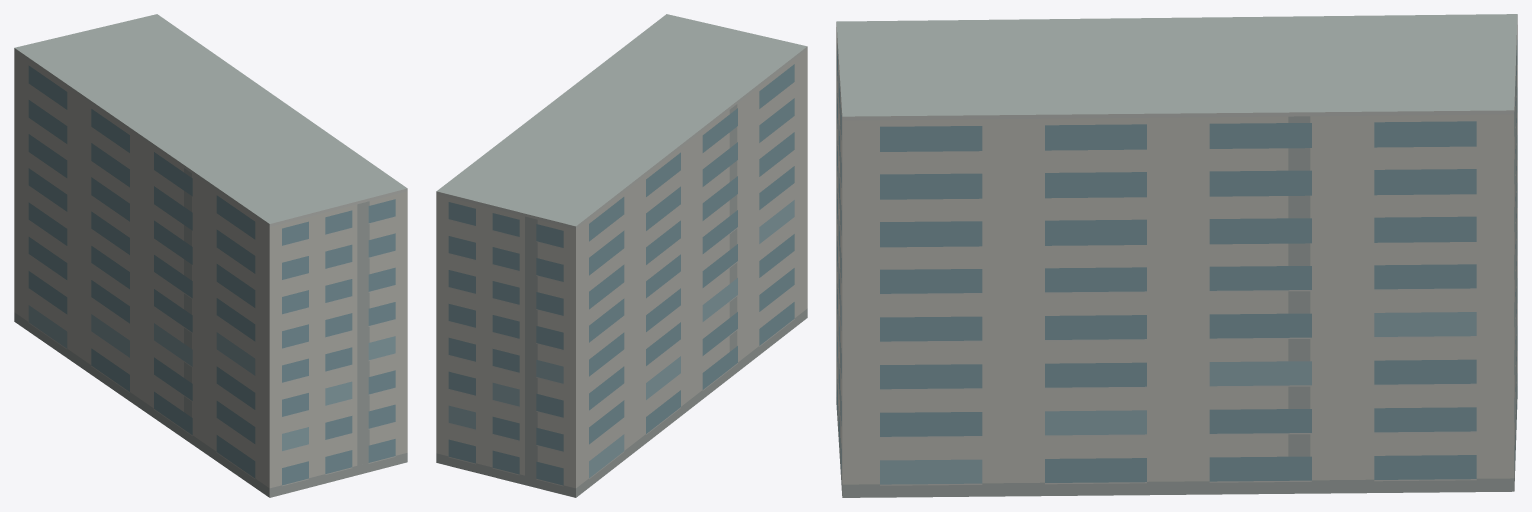
The model's file is survey-upis-32641032.glb.
3 renders of one model, left to right at view 1: azimuth 30°, elevation 25°; view 2: azimuth 150°, elevation 25°; view 3: azimuth 270°, elevation 25°, orthographic. The views are drawn at different scales.
Visible parts, largest first — view 1: survey-upis-32641032.tmp; view 2: survey-upis-32641032.tmp; view 3: survey-upis-32641032.tmp.
Boxes of the visible parts, x1=… form: survey-upis-32641032.tmp: x1=14, y1=14, x2=407, y2=497; survey-upis-32641032.tmp: x1=436, y1=14, x2=807, y2=497; survey-upis-32641032.tmp: x1=836, y1=14, x2=1517, y2=497.
Size of the model in its own units: 13.22 by 22.9 by 37.08.
